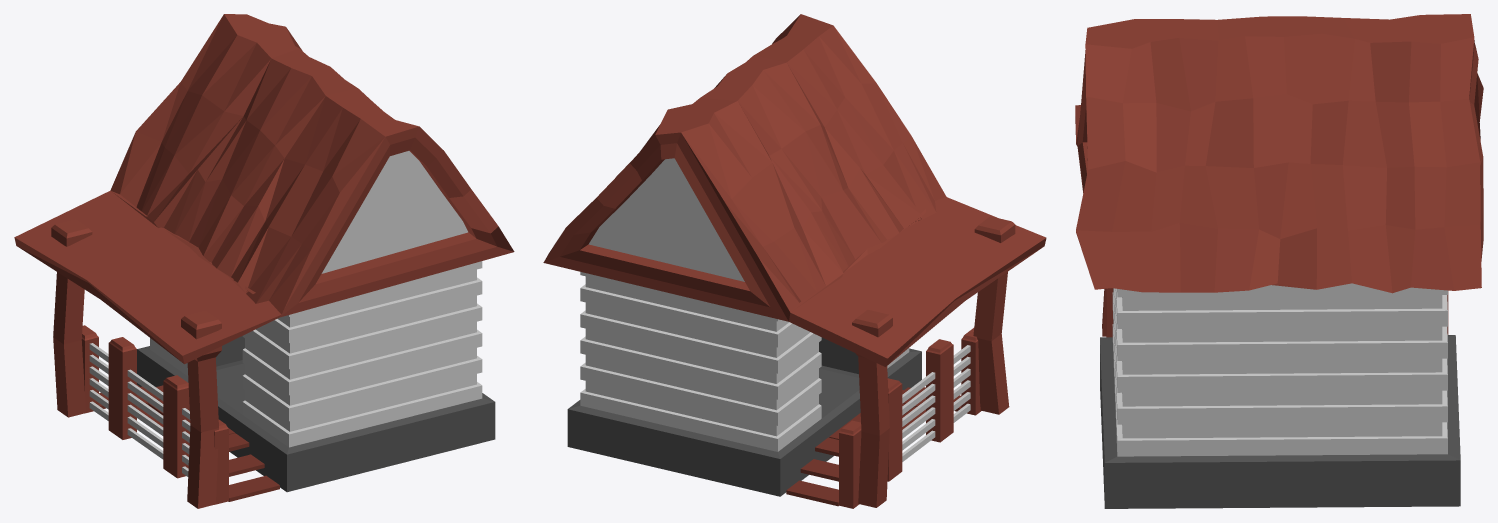
File: HOUSE.fbx
The picture shows the model from 3 angles, left to right: view 1: azimuth 30°, elevation 25°; view 2: azimuth 150°, elevation 25°; view 3: azimuth 270°, elevation 25°; orthographic projection. The views are drawn at different scales.
Visible parts, largest first — view 1: House; view 2: House; view 3: House.
Part boxes in pixels (bbox=[...]): House: bbox=[14, 14, 514, 508]; House: bbox=[543, 14, 1046, 508]; House: bbox=[1075, 14, 1483, 508].
Bounding box in the file's own units: 38.04 × 36.27 × 31.78.
